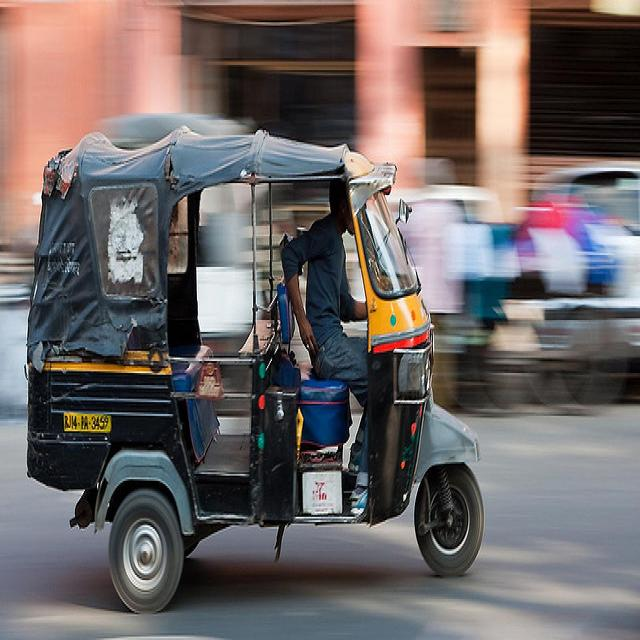autorickshaw: (28, 128, 482, 611)
